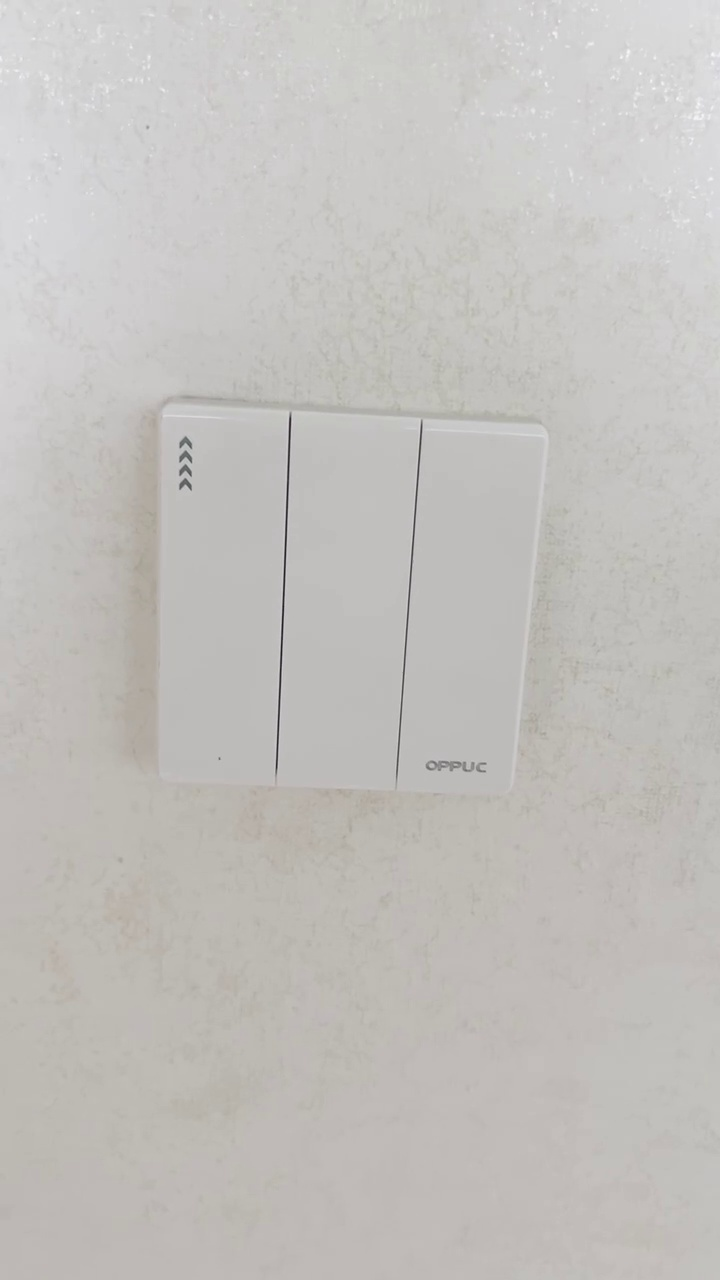button1: (273, 417, 417, 791), (403, 420, 538, 796), (161, 410, 286, 789)
